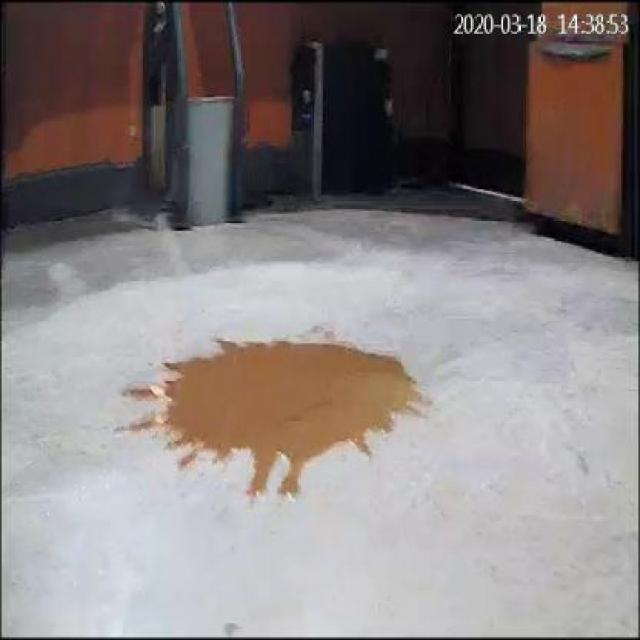spill: (112, 332, 420, 516)
